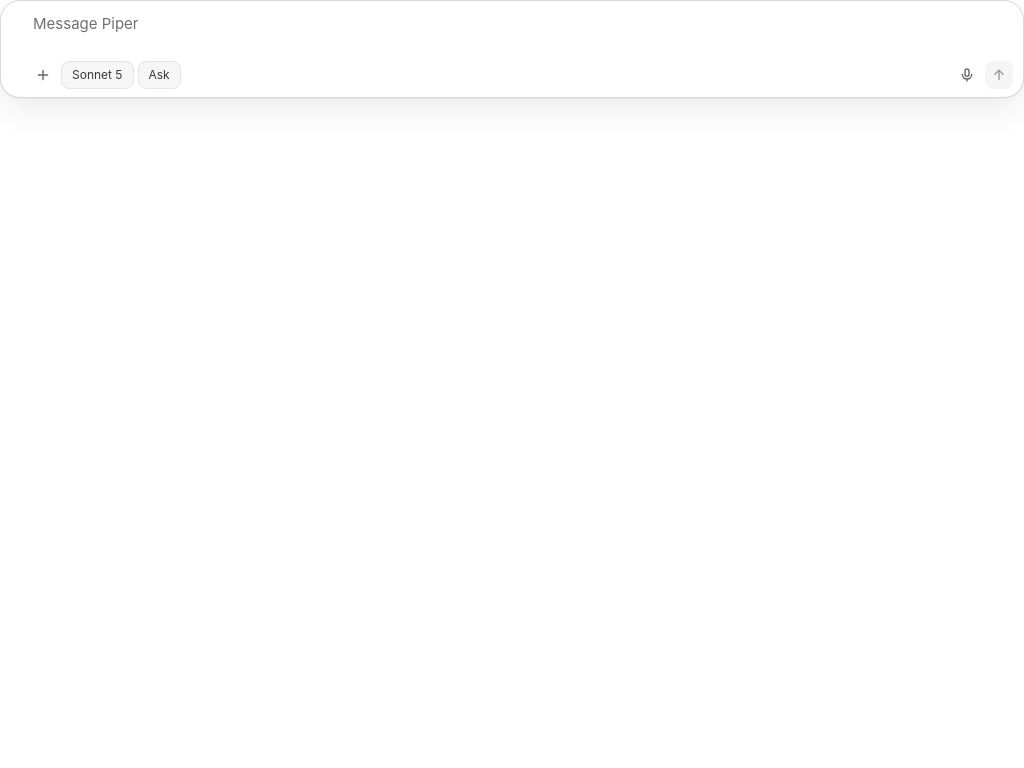
Test: composer pickers: skills, mentions and the clipboard › Enter completes the mention instead of sending the half-typed message
Step 1. Type "hey @Pi" into the text box labelled "Message Piper" → [523, 32], box x1=33 y1=11 x2=1013 y2=53
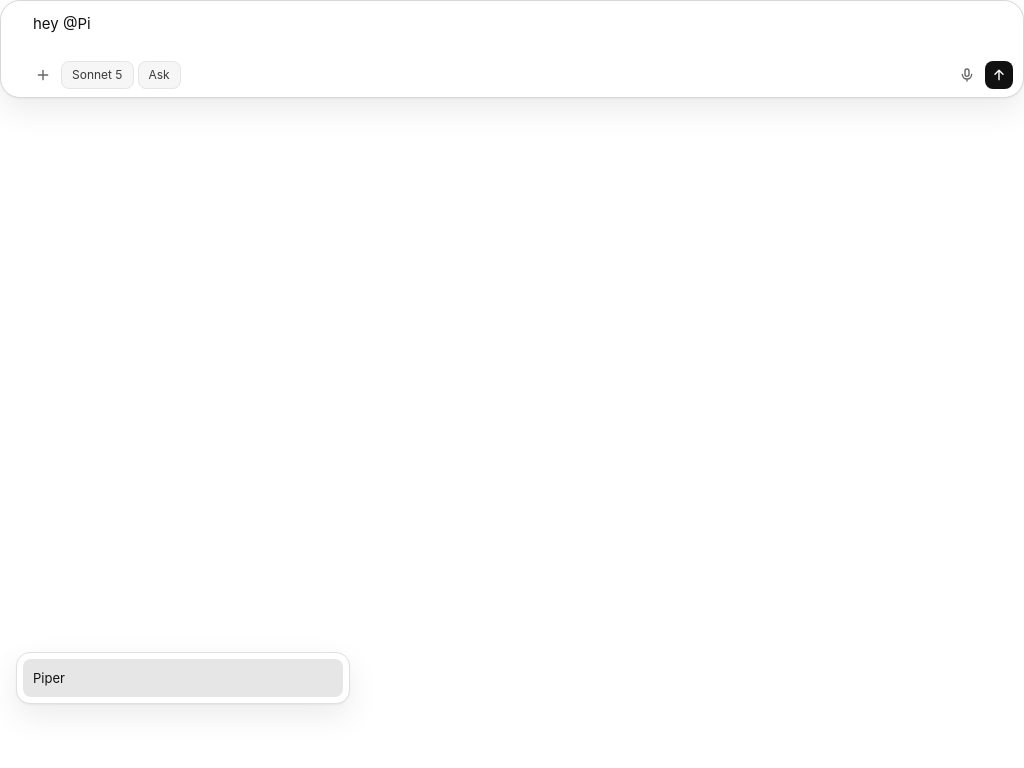
Expected: the list named "Mention" is shown, x1=16 y1=652 x2=350 y2=704
Step 2. Press Enter in the text box named "Message Piper", box x1=33 y1=11 x2=1013 y2=53
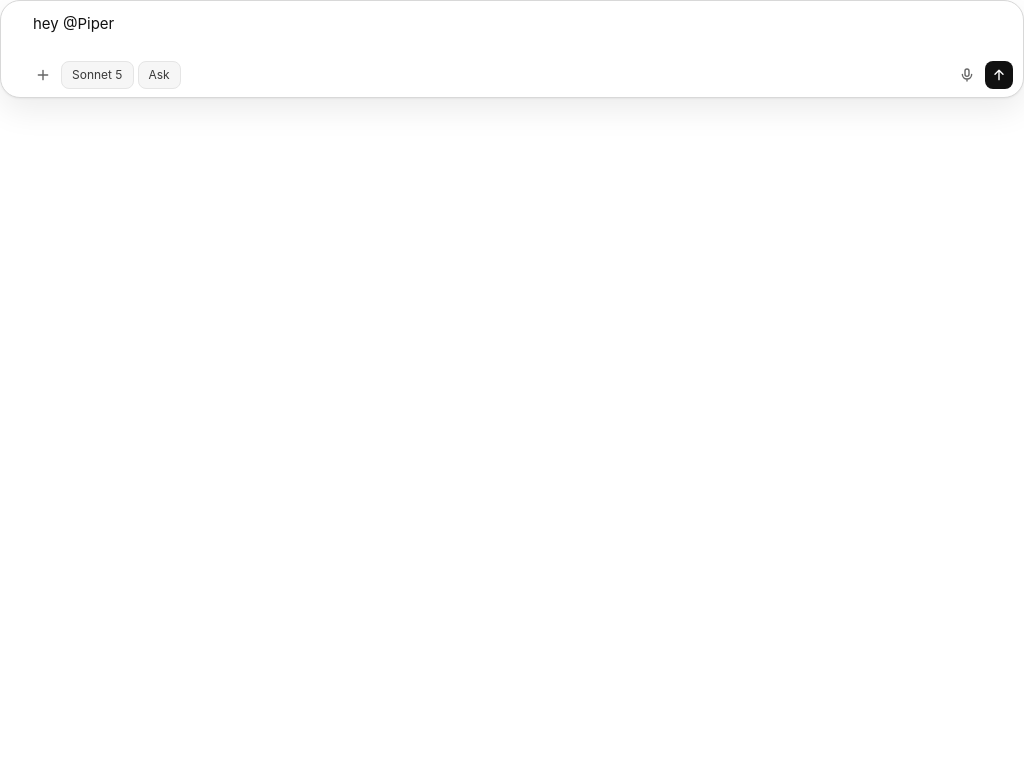
Expected: the text box named "Message Piper" holds "hey @Piper ", x1=33 y1=11 x2=1013 y2=53
